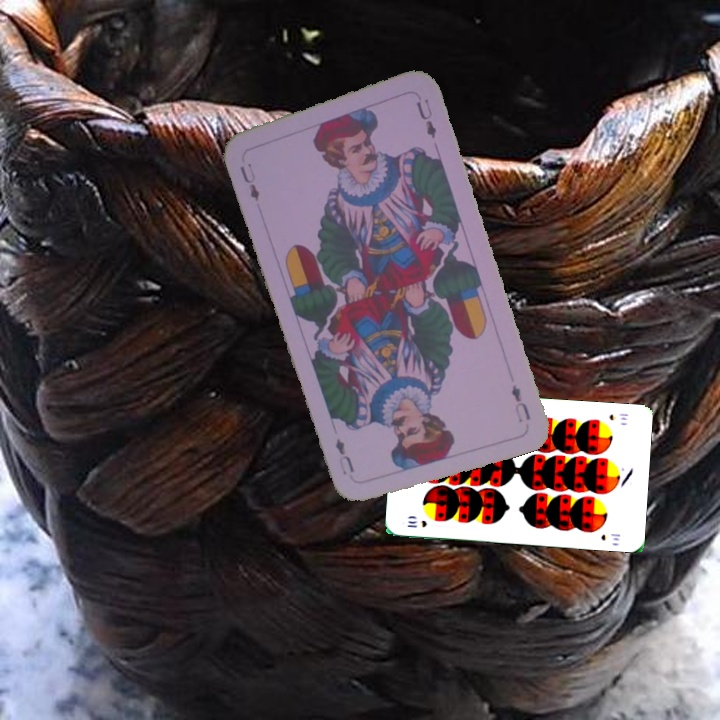EU: (235, 159, 262, 204), (507, 381, 533, 425)
S10: (605, 409, 631, 423), (404, 516, 429, 530)
